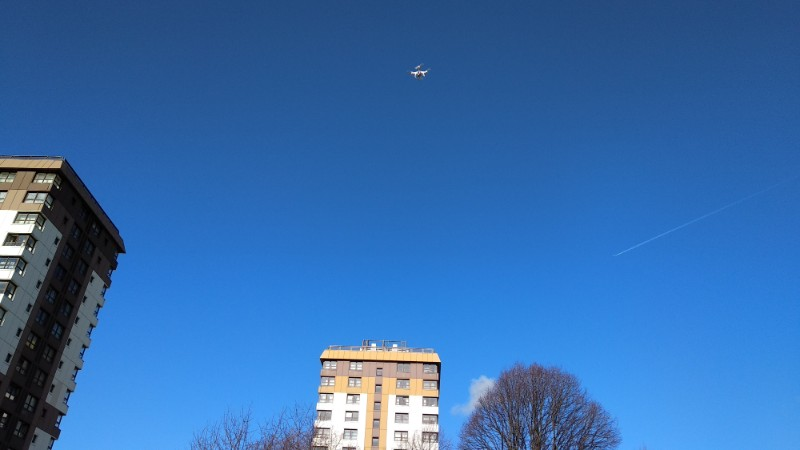drone: (407, 62, 431, 82)
